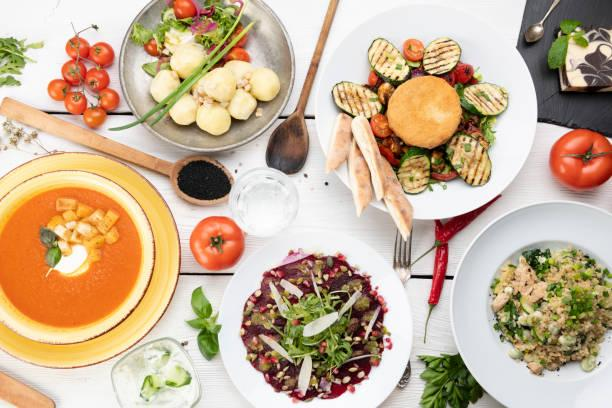Braised Crucian Carp: (312, 2, 532, 225), (3, 150, 182, 366), (215, 229, 409, 408), (448, 200, 612, 406), (118, 2, 292, 155)
